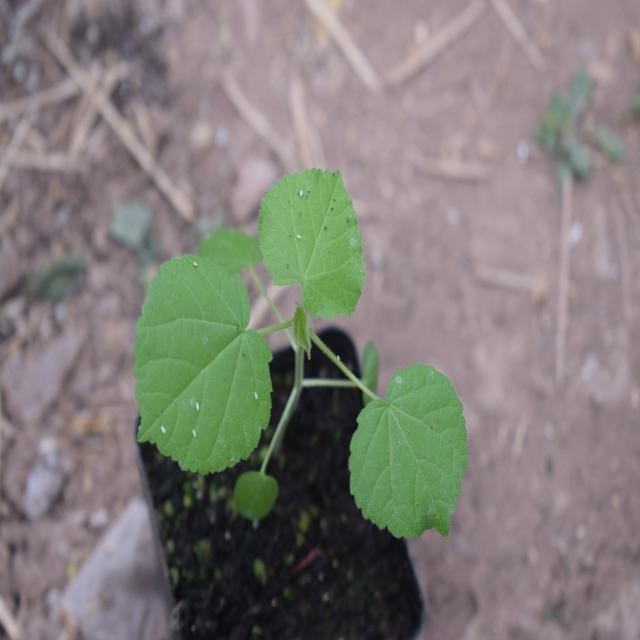abutilon theophrasti: (122, 153, 486, 576)
